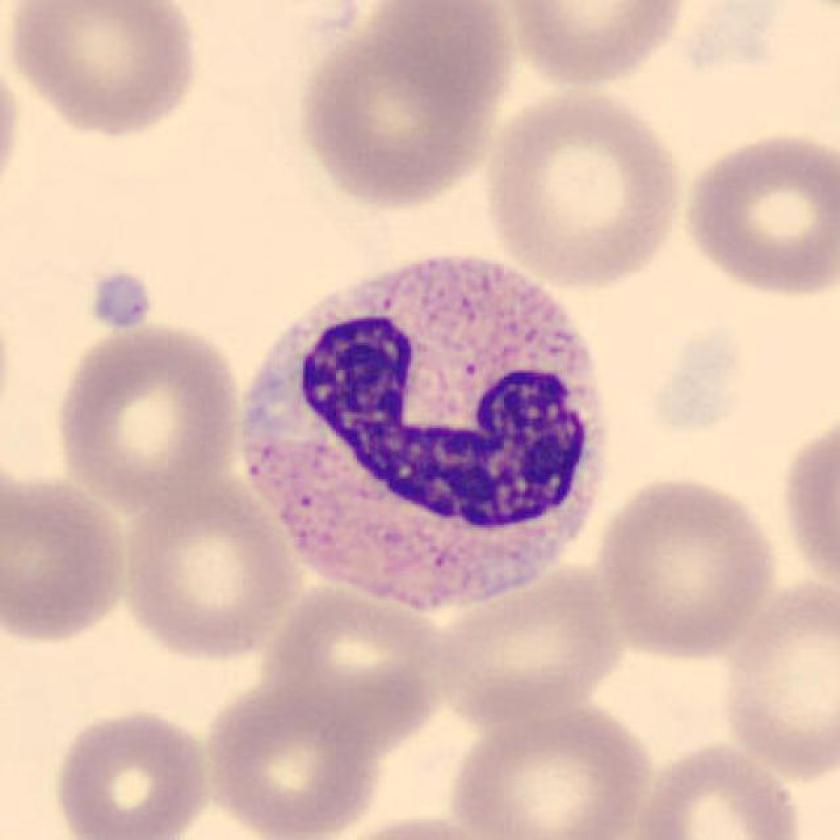neutrophil: (247, 256, 600, 605)
